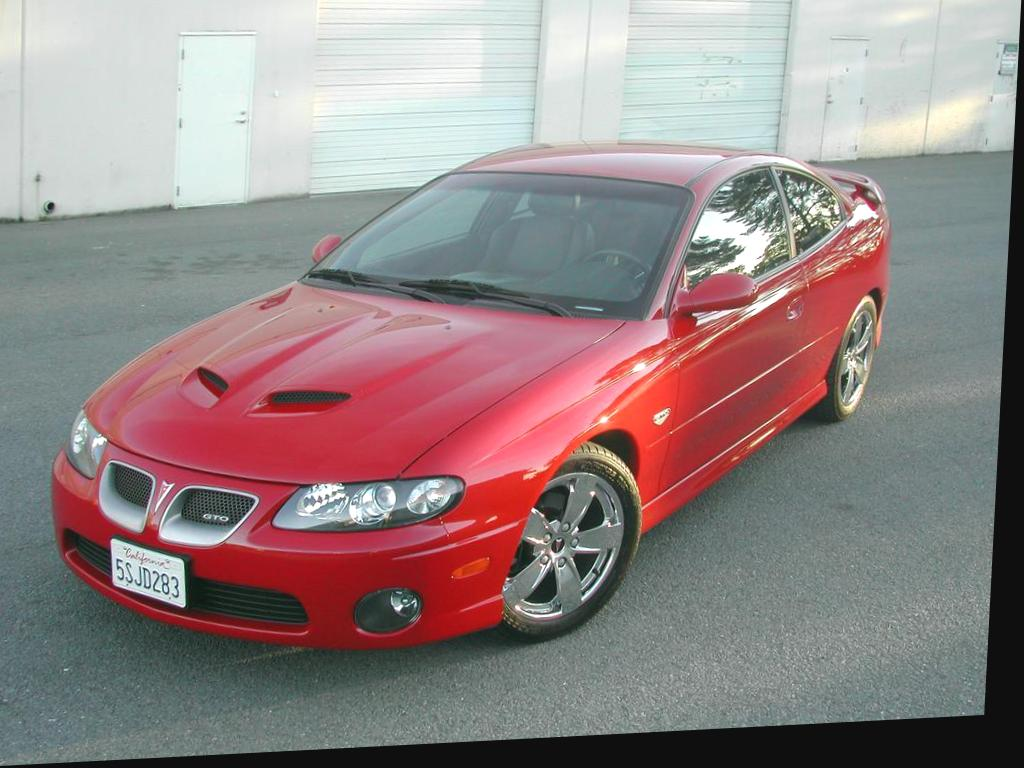License_Plate: (107, 528, 192, 612)
